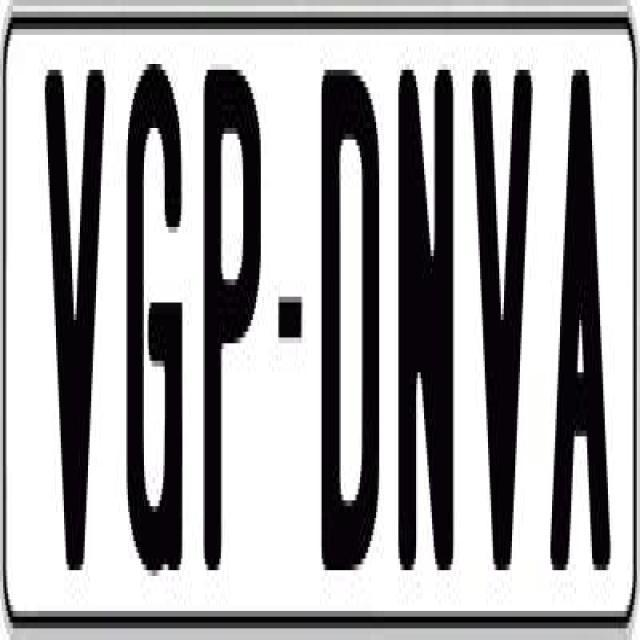A: (546, 64, 606, 582)
D: (320, 63, 378, 564)
G: (121, 47, 178, 570)
N: (395, 58, 453, 576)
P: (198, 70, 261, 588)
V: (467, 52, 533, 582), (40, 52, 106, 570)
